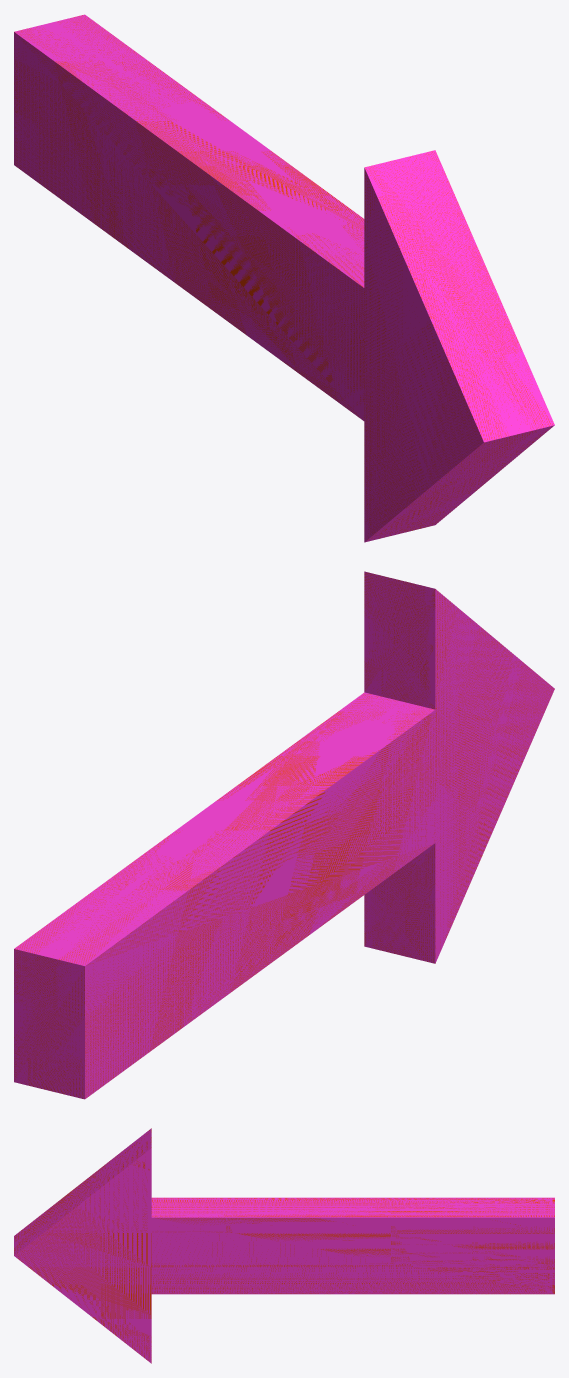
Rendered from arrow3D.dae.
The picture shows the model from 3 angles, top to bottom: view 1: azimuth 30°, elevation 25°; view 2: azimuth 150°, elevation 25°; view 3: azimuth 270°, elevation 25°; orthographic projection. The views are drawn at different scales.
Visible parts, largest first — view 1: SketchUp; view 2: SketchUp; view 3: SketchUp.
Part boxes in pixels (x1,y1,x2,y2): SketchUp: [14, 14, 554, 542]; SketchUp: [14, 571, 554, 1099]; SketchUp: [14, 1128, 554, 1363].
Size of the model in its own units: 1.42 by 16.26 by 7.16.
